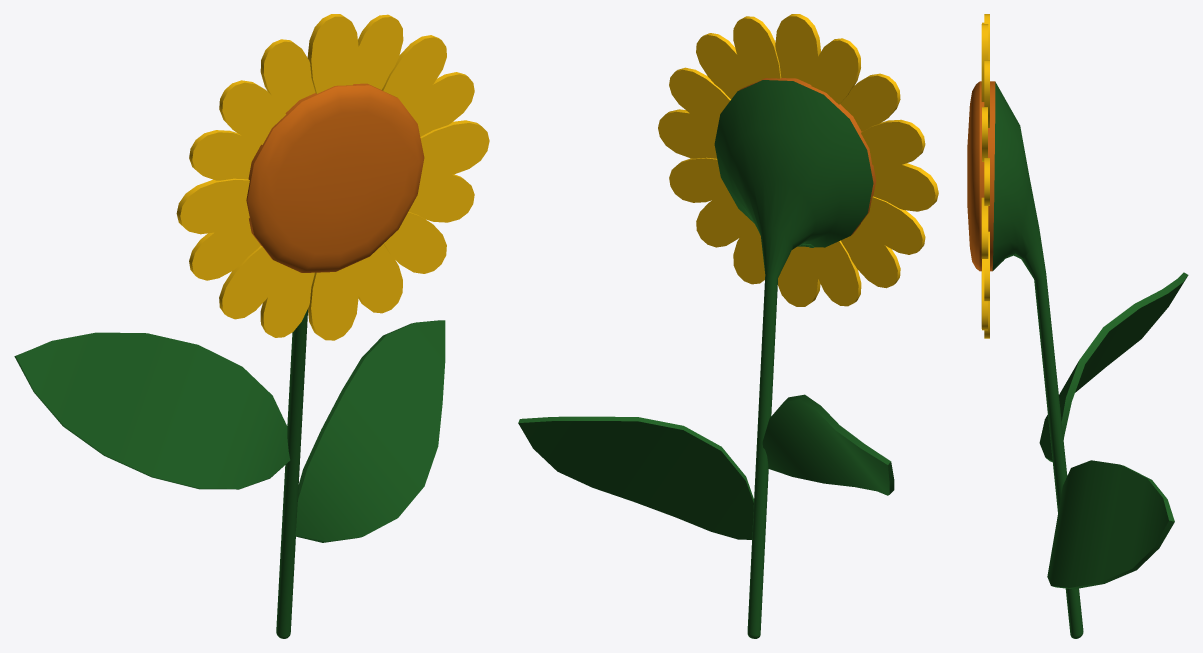
File: sunflower.glb
The picture shows the model from 3 angles, left to right: view 1: azimuth 30°, elevation 25°; view 2: azimuth 150°, elevation 25°; view 3: azimuth 270°, elevation 25°; orthographic projection. The views are drawn at different scales.
Visible parts, largest first — view 1: Circle.2044; view 2: Circle.2044; view 3: Circle.2044.
Boxes of the visible parts, x1,y1,x2,y2 form: Circle.2044: [14, 14, 489, 638]; Circle.2044: [518, 14, 938, 638]; Circle.2044: [967, 14, 1188, 638].
Size of the model in its own units: 1.49 by 2.23 by 0.7288.
1 material, 1 textured.
